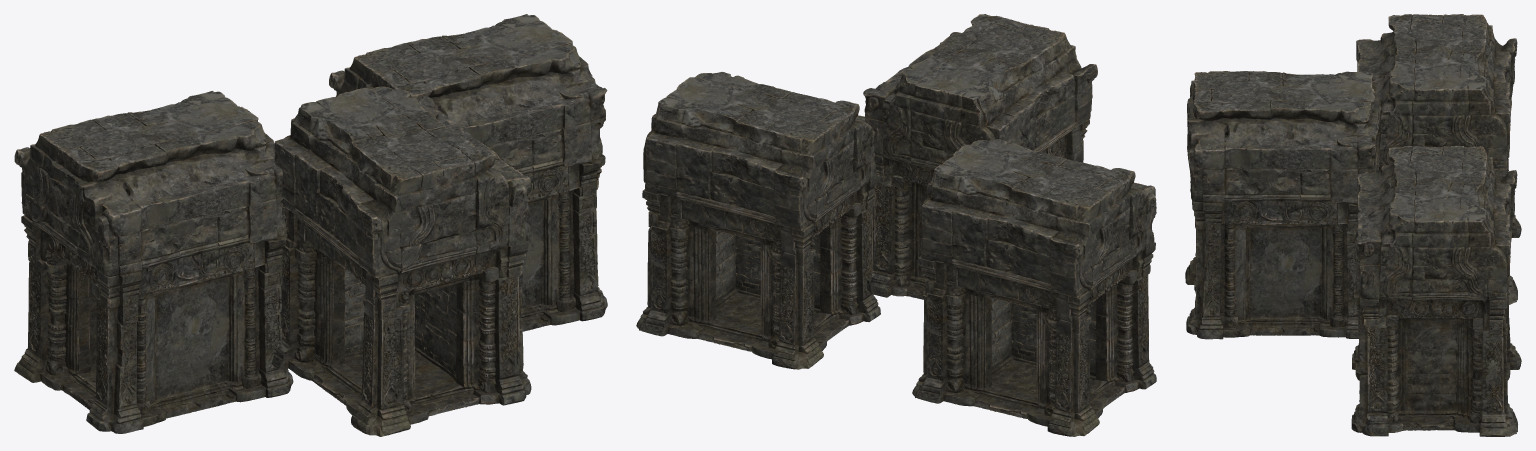
The model's file is sar_temple_full.gltf.
3 views of the same model, side by side, from view 1: azimuth 30°, elevation 25°; view 2: azimuth 150°, elevation 25°; view 3: azimuth 270°, elevation 25° (orthographic). The views are drawn at different scales.
Visible parts, largest first — view 1: temple; view 2: temple; view 3: temple.
Boxes of the visible parts, x1,y1,x2,y2 form: temple: (14,14,607,436); temple: (636,14,1156,436); temple: (1185,14,1521,436).
Bounding box in the file's own units: 10.87 × 5.58 × 7.18.
2 materials, 2 textured.
